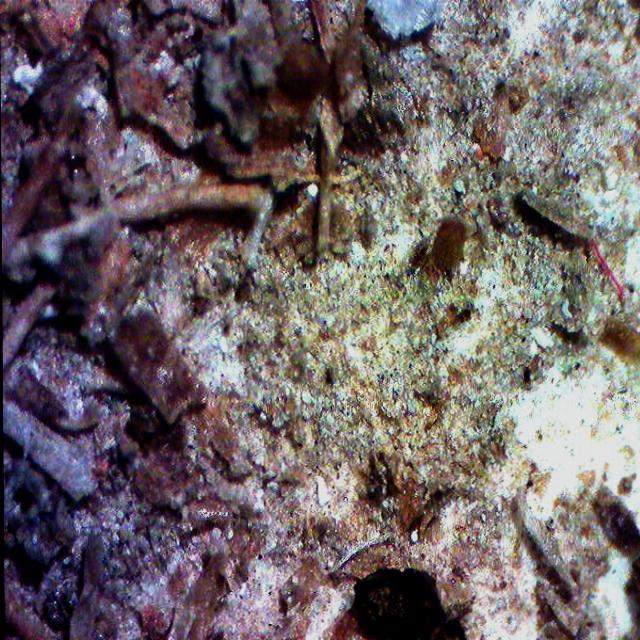microplastic: (587, 238, 624, 297)
